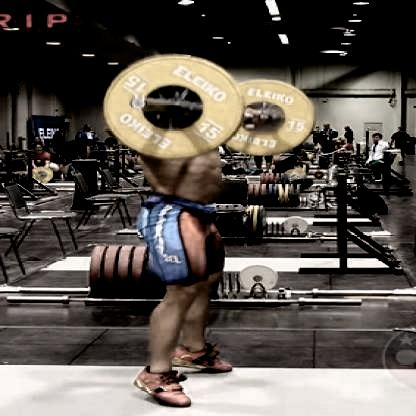Barbell: (125, 93, 154, 114)
